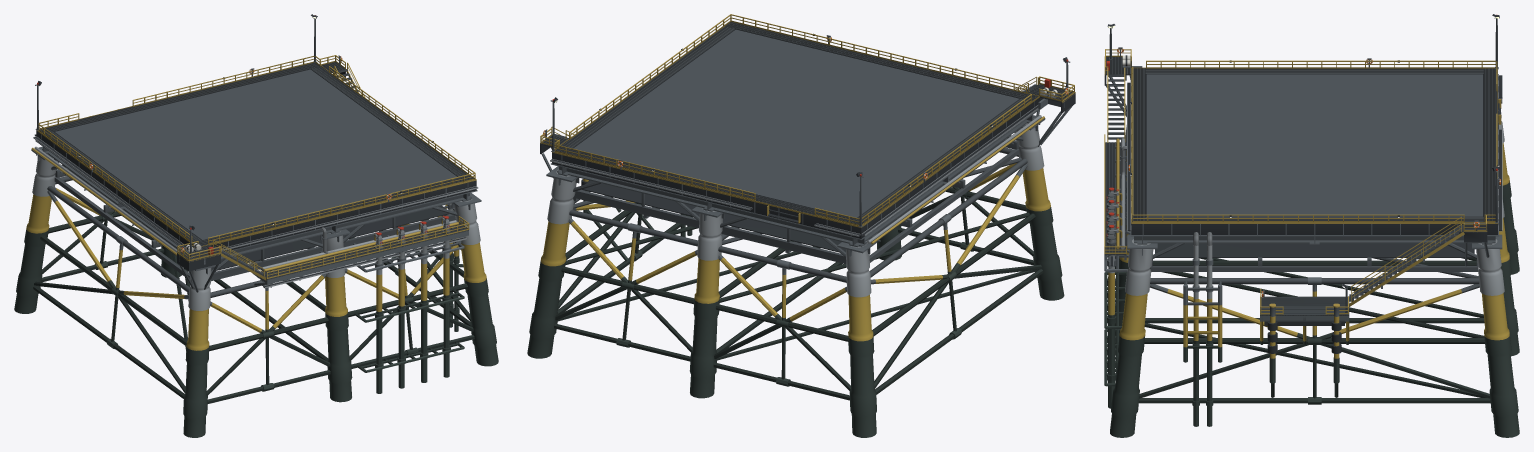
File: platform_v2.glb
3 renders of one model, left to right at view 1: azimuth 30°, elevation 25°; view 2: azimuth 150°, elevation 25°; view 3: azimuth 270°, elevation 25°, orthographic. The views are drawn at different scales.
Visible parts, largest first — view 1: platform_base; view 2: platform_base; view 3: platform_base.
Boxes of the visible parts, <box> form: platform_base: <box>14,14,498,437</box>; platform_base: <box>527,14,1075,437</box>; platform_base: <box>1104,14,1519,437</box>.
Size of the model in its own units: 10.73 by 6.83 by 9.88.
